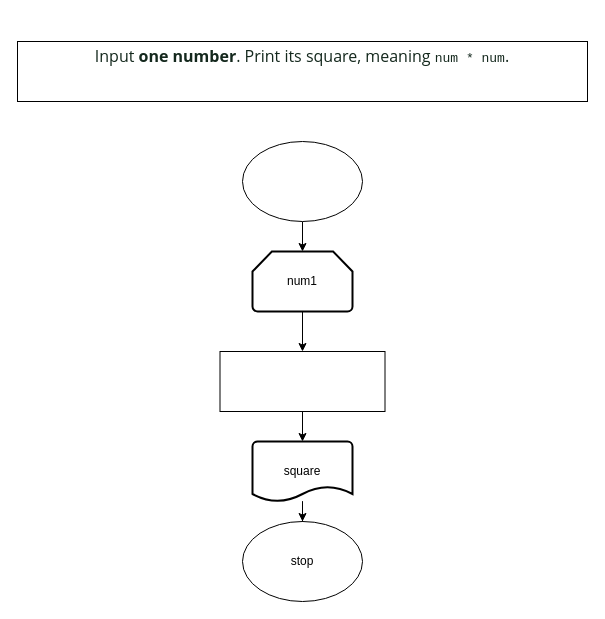
This 605x619 diagram has some shape labels left out. The shapes that lost their labels are listed below. From the top down, each one's centre as x and y in pixels, then its label:
At (302,181): "start".
At (302,381): "square = num1 * num1".
